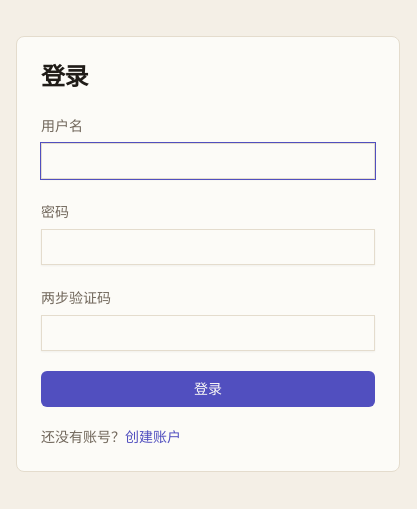
Test case: 登录页 › 密码错误时展示后端消息，且不跳转、不写 token
Step 1. Type "tester" into the field with test id "login-username" → point(208, 161), box [41, 143, 375, 179]
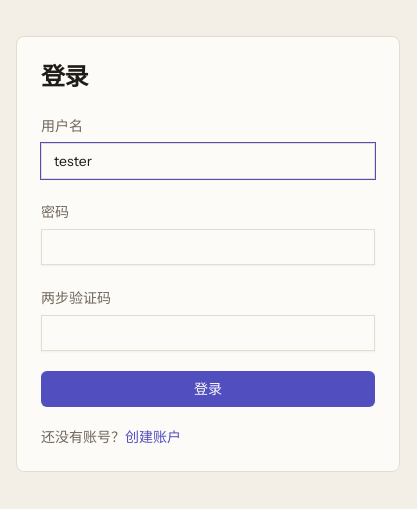
Step 2. Type "secret-pass" into the password field with test id "login-password" → point(208, 247), box [41, 229, 375, 265]
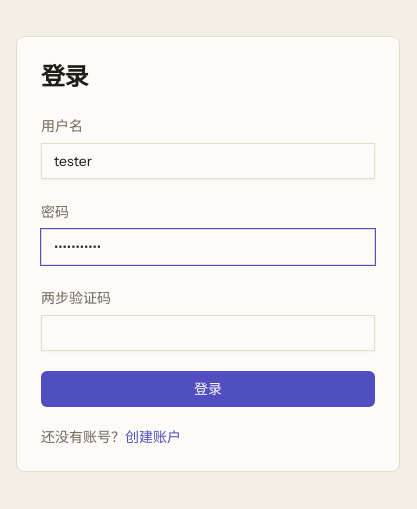
Step 3. Click the button with test id "login-submit" → point(208, 389), box [41, 371, 375, 407]
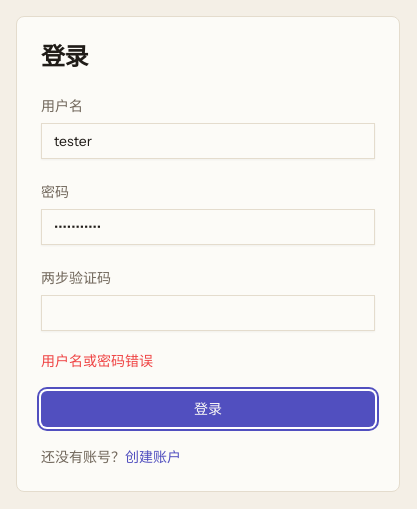
expect the message reads "用户名或密码错误": met, box [41, 352, 153, 370]
